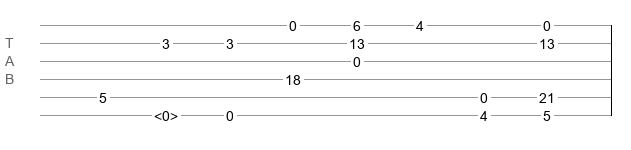0: (226, 108, 234, 118), (289, 18, 297, 28), (353, 54, 361, 64), (480, 90, 488, 100), (543, 18, 551, 28)
13: (349, 36, 365, 46), (539, 36, 555, 46)
18: (285, 72, 301, 82)
21: (539, 90, 555, 100)
3: (162, 36, 170, 46), (226, 36, 234, 46)
4: (416, 18, 424, 28), (480, 108, 488, 118)
5: (99, 90, 107, 100), (543, 108, 551, 118)
6: (353, 18, 361, 28)
harmonic: (154, 108, 178, 118)
